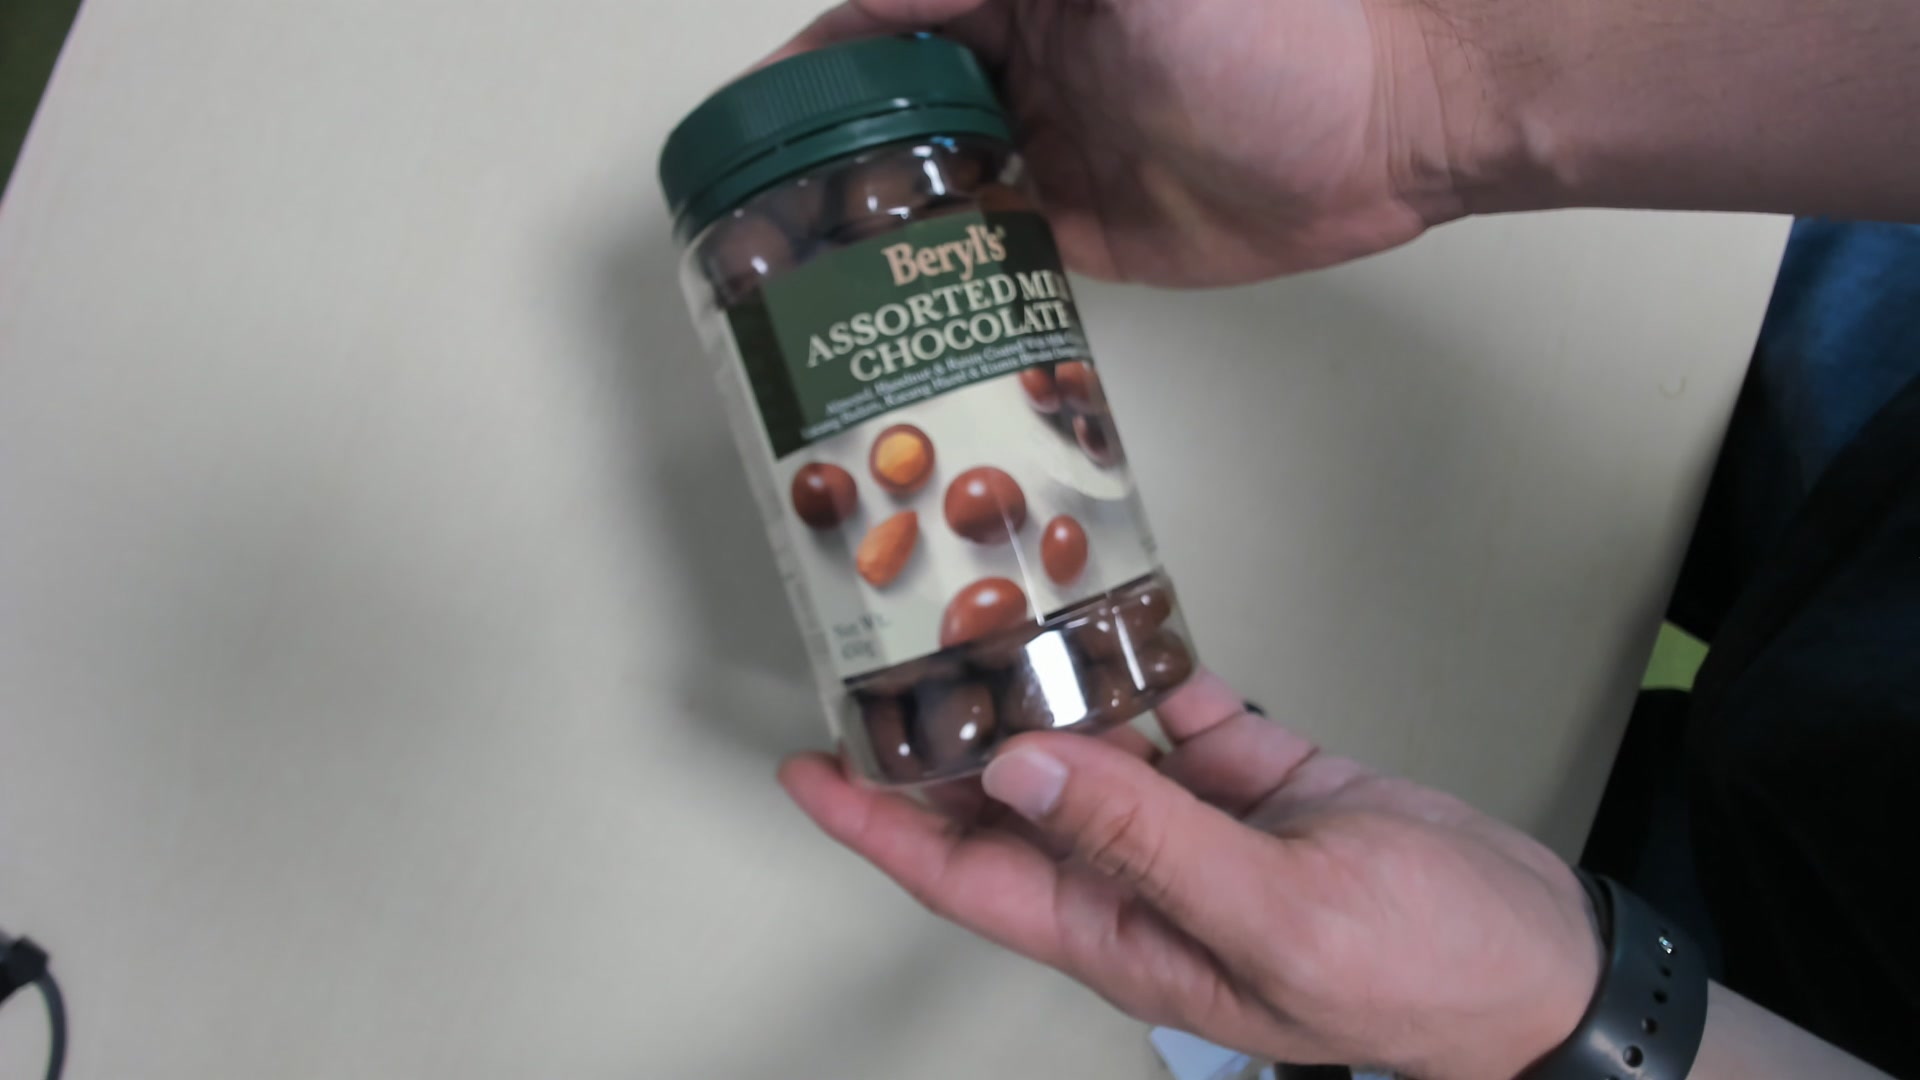SweetsChocolatesOthers_400-499g_Halal_Nonhealthy: (655, 42, 1200, 796)
